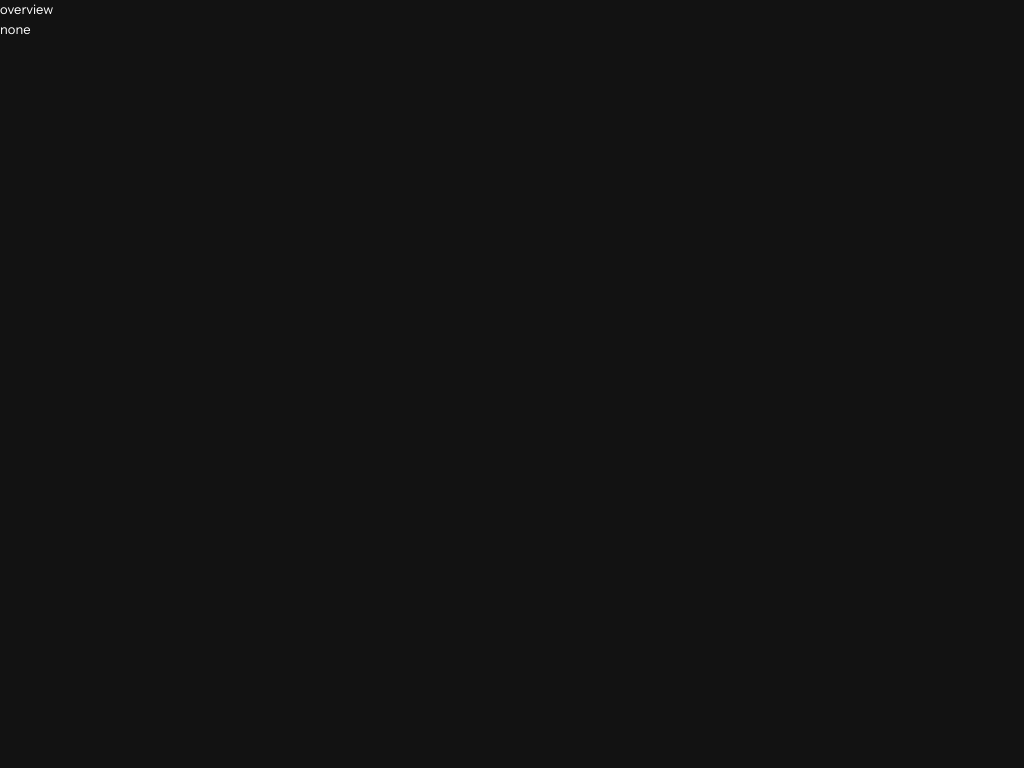
Test: CommandPalette fuzzy navigation › navigates via keyboard: filter to a result and Enter runs it
Press k
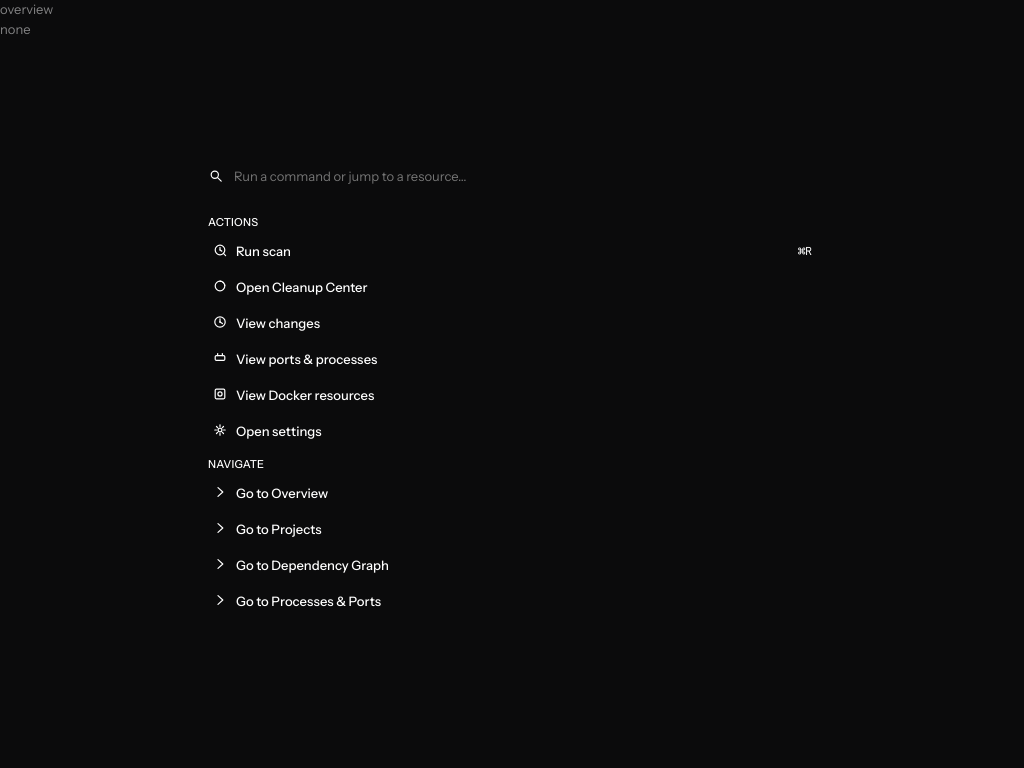
Type "go to cleanup" into the dropdown named "command palette input".
click(524, 176); type("go to cleanup")  # box 232,166 -> 816,187
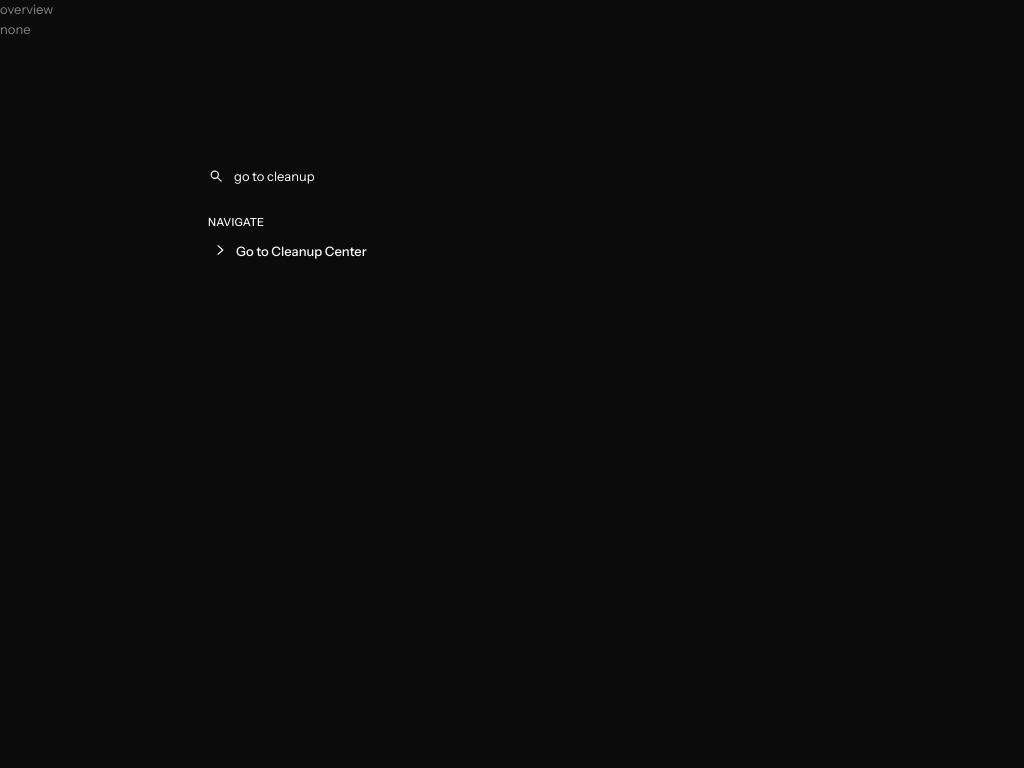
Expected: the text "Go to Cleanup Center" is shown, 236,243 -> 367,259
Press Enter in the dropdown named "command palette input", box 232,166 -> 816,187
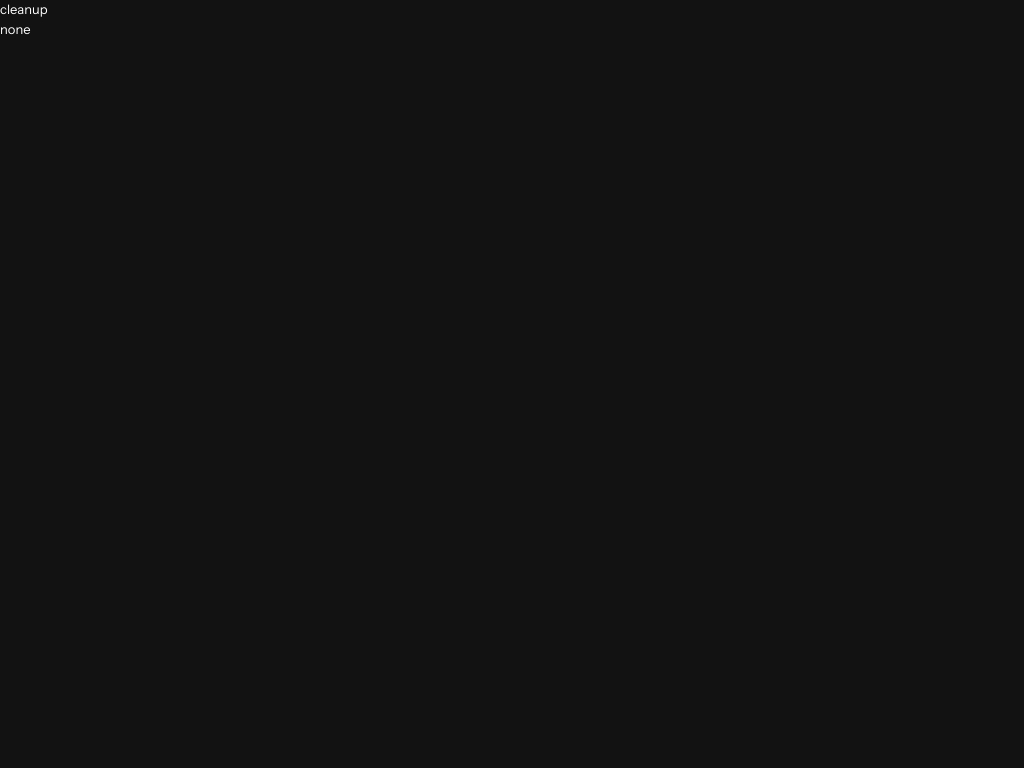
Expected: the text with test id "current-view" reads "cleanup", 0,1 -> 48,17
